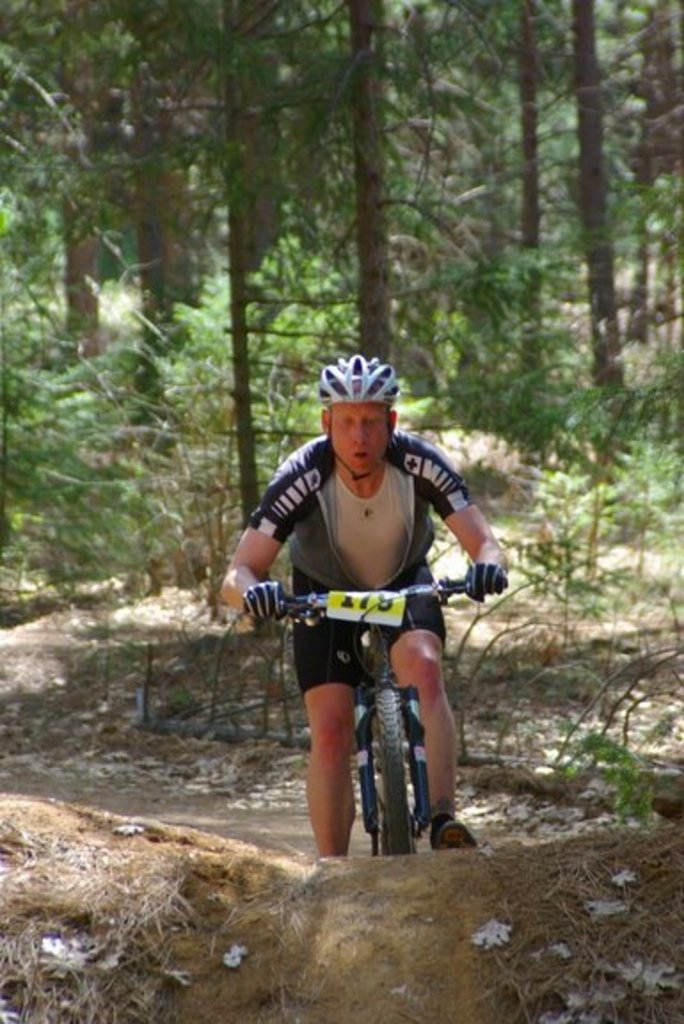Tree: (0, 0, 683, 629)
